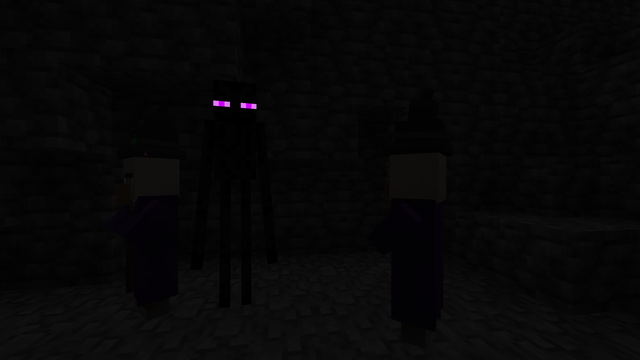endermens: (205, 70, 260, 317)
sorcieres: (380, 144, 463, 355), (109, 150, 185, 326)
